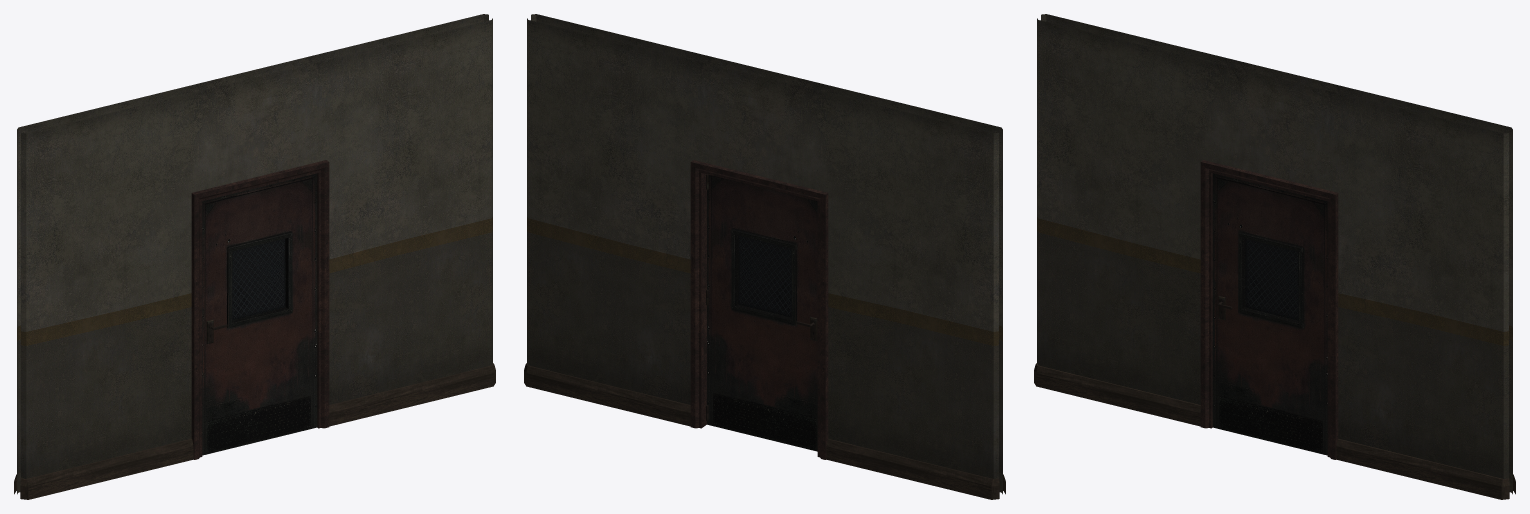
Rendered from doorway_3.fbx.
3 views of the same model, side by side, from view 1: azimuth 30°, elevation 25°; view 2: azimuth 150°, elevation 25°; view 3: azimuth 330°, elevation 25° (orthographic).
Parts seen in each view (by area): view 1: doorway_3, door_4; view 2: doorway_3, door_4; view 3: doorway_3, door_4.
Part boxes in pixels (<box>): doorway_3: <box>14,14,495,499</box>; door_4: <box>202,173,317,455</box>; doorway_3: <box>524,14,1005,499</box>; door_4: <box>706,174,817,451</box>; doorway_3: <box>1034,14,1515,499</box>; door_4: <box>1212,173,1327,455</box>.
Size of the model in its own units: 4.09 by 0.219 by 3.
